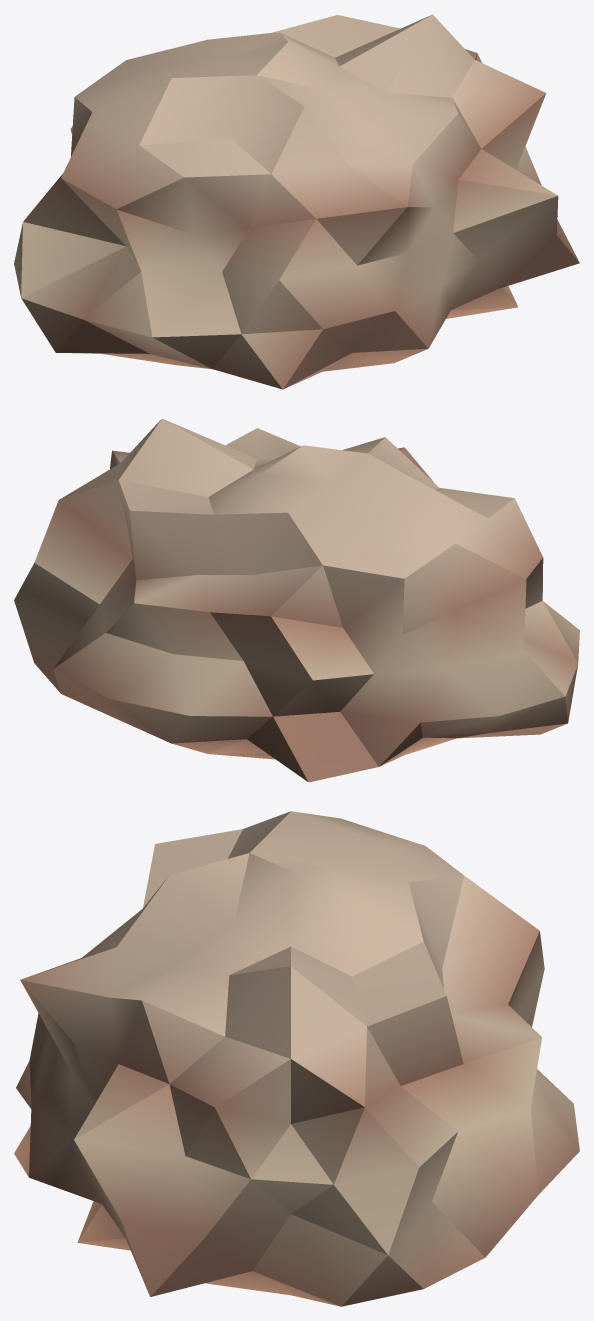
File: boulder_a.glb
3 views of the same model, one above another, from view 1: azimuth 30°, elevation 25°; view 2: azimuth 150°, elevation 25°; view 3: azimuth 270°, elevation 25° (orthographic). The views are drawn at different scales.
Visible parts, largest first — view 1: boulder_a; view 2: boulder_a; view 3: boulder_a.
Boxes of the visible parts, left/top/right/bottom form: boulder_a: left=14, top=14, right=579, bottom=389; boulder_a: left=14, top=418, right=579, bottom=782; boulder_a: left=14, top=811, right=579, bottom=1306.
Bounding box in the file's own units: 2.74 × 1.18 × 2.11.
